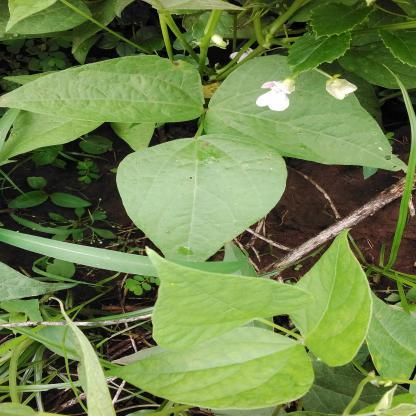Beans_Angular_LeafSpot: (204, 53, 406, 174), (120, 132, 286, 263)
